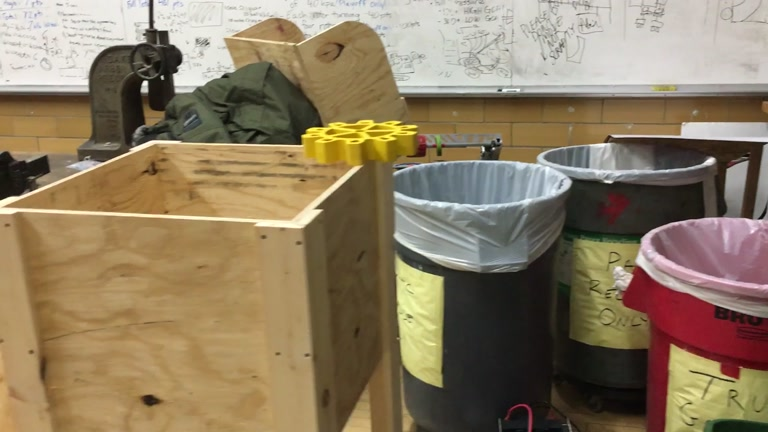gear: (300, 119, 419, 165)
